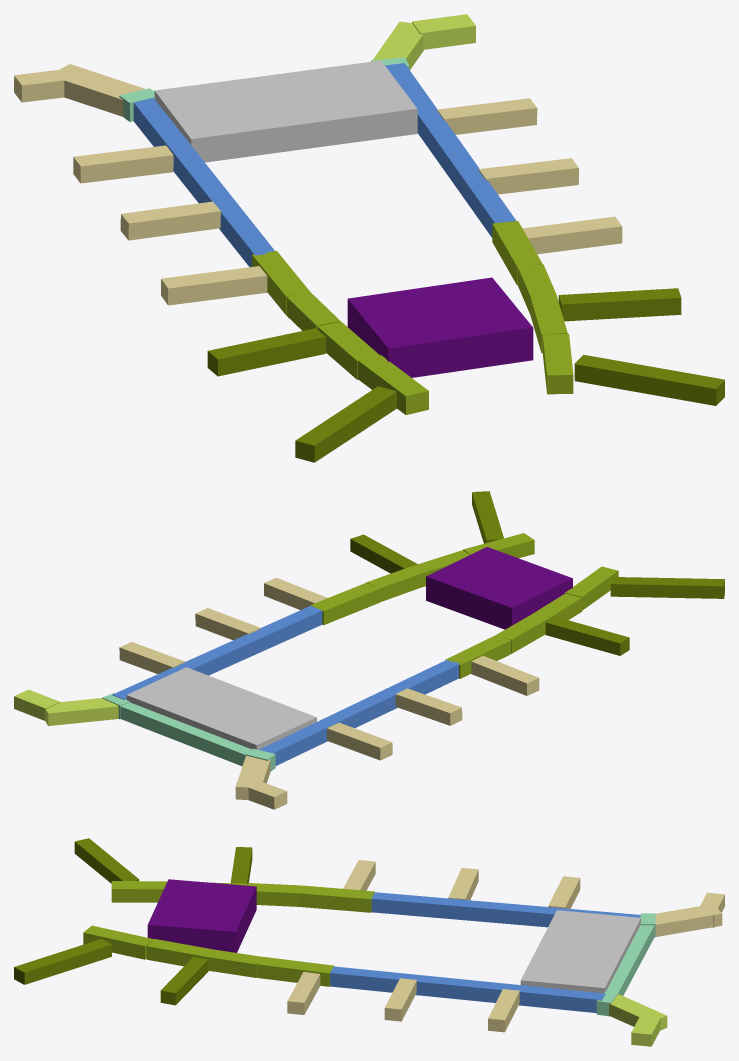
The model's file is boundBox.obj.
3 views of the same model, one above another, from view 1: azimuth 30°, elevation 25°; view 2: azimuth 150°, elevation 25°; view 3: azimuth 270°, elevation 25° (orthographic). The views are drawn at different scales.
Visible parts, largest first — view 1: Box022, Box010, Box017, Box012, Box019, Box018, boundBox004, Box002, Box003, Box006, Box005, Box007 (+8 smaller); view 2: Box022, Box010, Box012, Box019, Box017, Box018, Box021, Box007, Box003, boundBox004, Box006, boundBox1 (+8 smaller); view 3: Box022, Box010, Box018, Box012, Box019, Box017, Box021, boundBox004, Box007, Box004, Box003, Box002 (+8 smaller).
Part boxes in pixels (bbox=[...]): Box022: bbox=[154, 60, 417, 162]; Box010: bbox=[347, 277, 533, 377]; Box017: bbox=[252, 251, 428, 414]; Box012: bbox=[492, 221, 573, 394]; Box019: bbox=[133, 98, 274, 266]; Box018: bbox=[385, 63, 516, 237]; boundBox004: bbox=[14, 64, 145, 116]; Box002: bbox=[558, 288, 681, 321]; Box003: bbox=[295, 386, 396, 462]; Box006: bbox=[207, 328, 325, 376]; Box005: bbox=[575, 356, 724, 405]; Box007: bbox=[373, 14, 475, 69]; Box022: bbox=[126, 667, 316, 749]; Box010: bbox=[426, 547, 572, 629]; Box012: bbox=[310, 533, 534, 625]; Box019: bbox=[259, 660, 459, 765]; Box017: bbox=[445, 566, 618, 678]; Box018: bbox=[112, 606, 322, 699]; Box021: bbox=[102, 693, 275, 771]; Box007: bbox=[14, 689, 118, 725]; Box003: bbox=[610, 577, 724, 598]; boundBox004: bbox=[235, 755, 287, 809]; Box006: bbox=[545, 616, 629, 655]; boundBox1: bbox=[471, 656, 539, 695]; Box022: bbox=[520, 910, 640, 993]; Box010: bbox=[147, 879, 256, 952]; Box018: bbox=[330, 966, 605, 1012]; Box012: bbox=[83, 925, 334, 986]; Box019: bbox=[371, 892, 640, 927]; Box017: bbox=[111, 881, 374, 912]; Box021: bbox=[596, 913, 655, 1016]; boundBox004: bbox=[655, 892, 724, 936]; Box007: bbox=[609, 994, 667, 1046]; Box004: bbox=[20, 939, 111, 984]; Box003: bbox=[74, 838, 139, 883]; Box002: bbox=[160, 957, 208, 1005].
Bounding box in the file's own units: 93.67 × 5.24 × 143.
